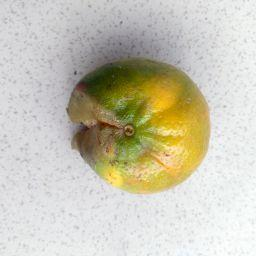orange: (66, 57, 213, 196)
